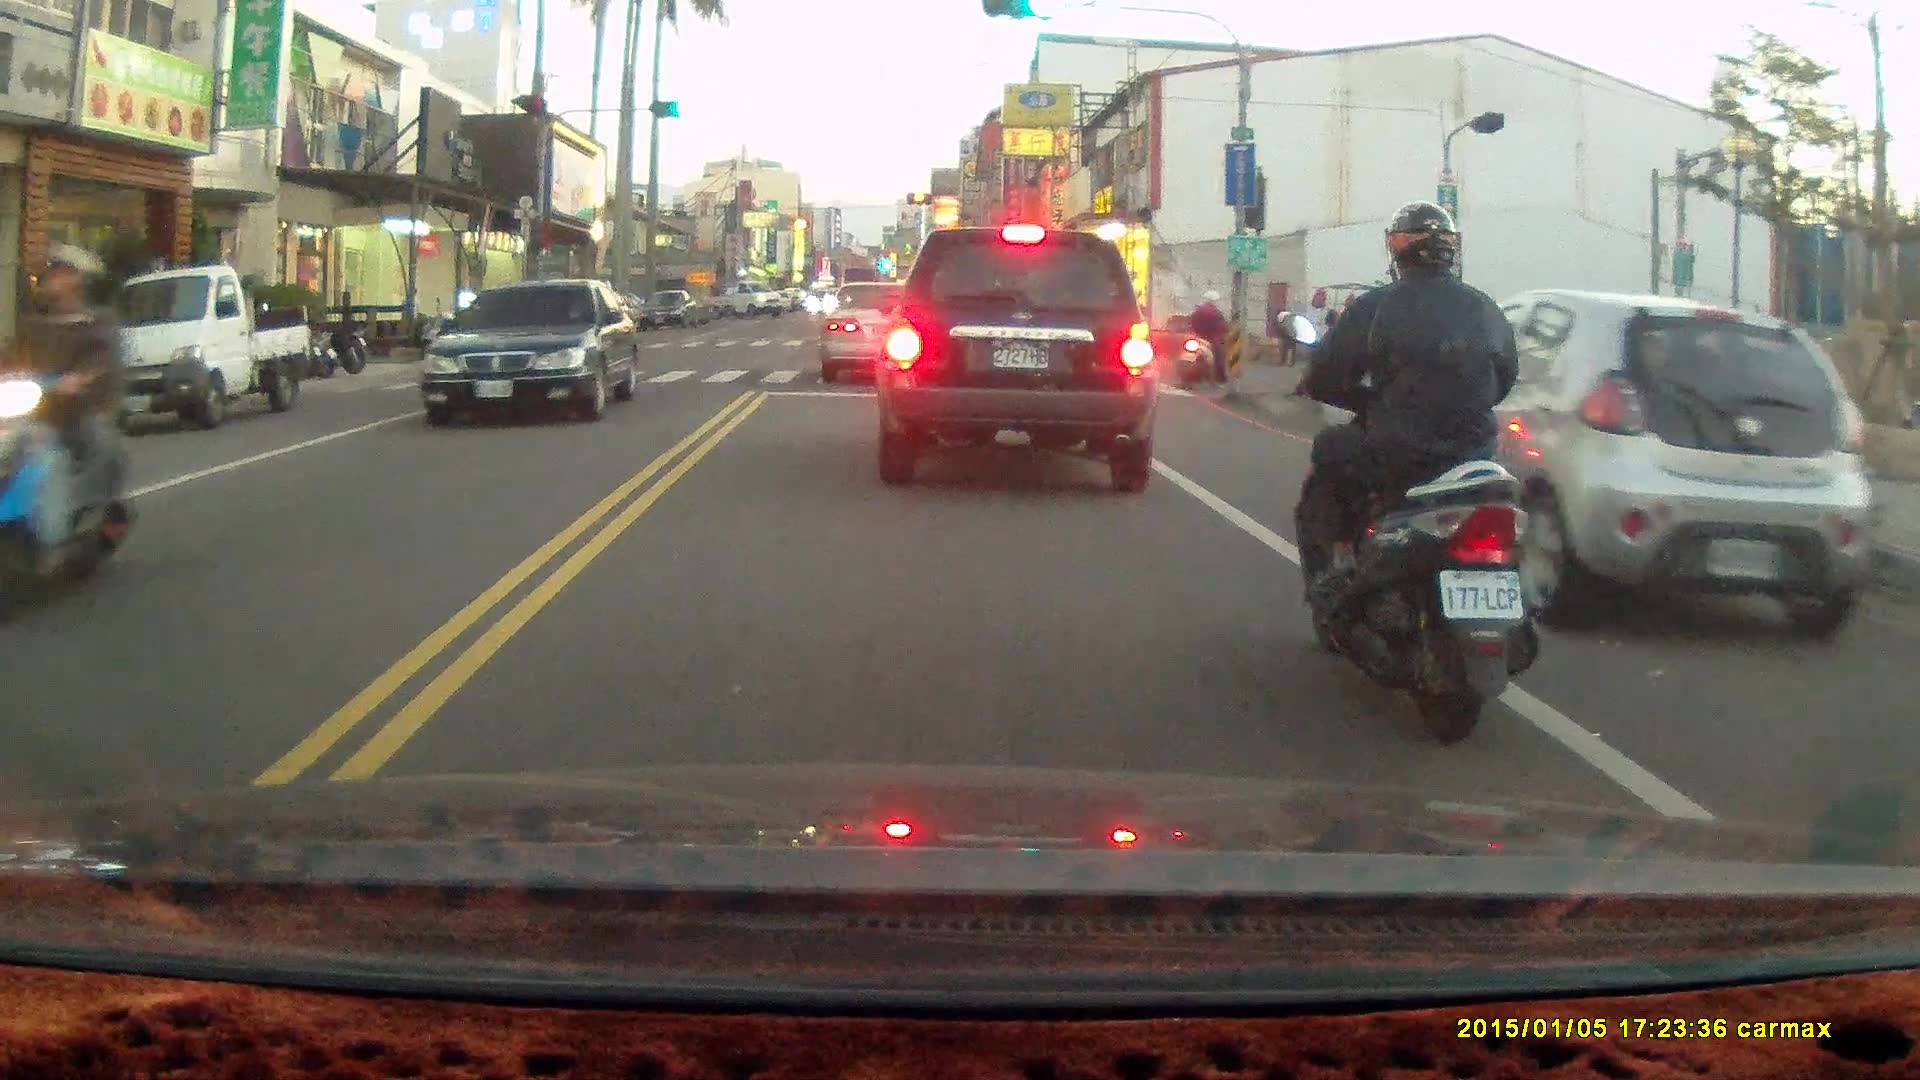pedestrian: (1268, 305, 1297, 369)
rider: (1274, 200, 1543, 747), (0, 240, 135, 619), (1174, 287, 1233, 391)
vehicle: (1406, 293, 1878, 640), (871, 224, 1159, 496), (85, 268, 314, 430), (425, 277, 641, 424), (819, 281, 937, 387)
